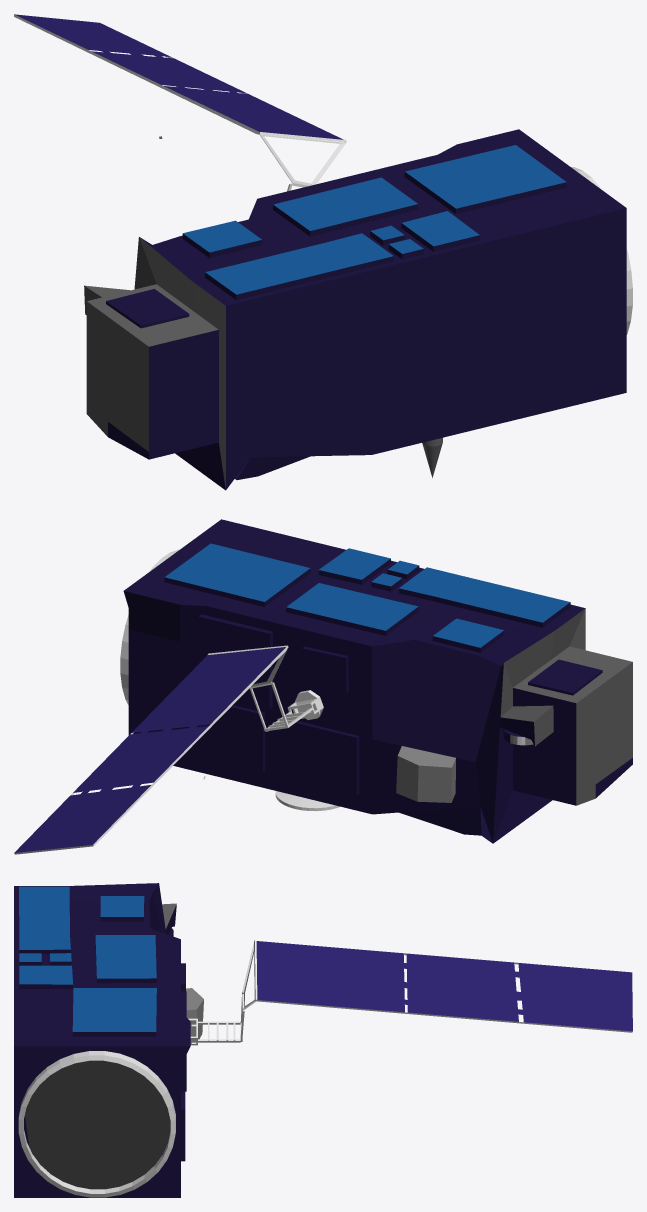
File: sentinel3.glb
The picture shows the model from 3 angles, top to bottom: view 1: azimuth 30°, elevation 25°; view 2: azimuth 150°, elevation 25°; view 3: azimuth 270°, elevation 25°; orthographic projection. The views are drawn at different scales.
Visible parts, largest first — view 1: Cube, Cilindro.001; view 2: Cube, Cilindro.001, Cilindro.002, Cilindro.003; view 3: Cube, Cilindro.001, Cilindro.002.
Part boxes in pixels (bbox=[...]): Cube: bbox=[84, 129, 626, 490]; Cilindro.001: bbox=[14, 14, 346, 191]; Cube: bbox=[123, 519, 632, 843]; Cilindro.001: bbox=[14, 645, 323, 854]; Cilindro.002: bbox=[120, 549, 179, 704]; Cilindro.003: bbox=[275, 791, 339, 811]; Cube: bbox=[14, 883, 203, 1197]; Cilindro.001: bbox=[188, 940, 632, 1045]; Cilindro.002: bbox=[18, 1051, 175, 1197].
Size of the model in its own units: 10.75 by 5.82 by 14.65.
